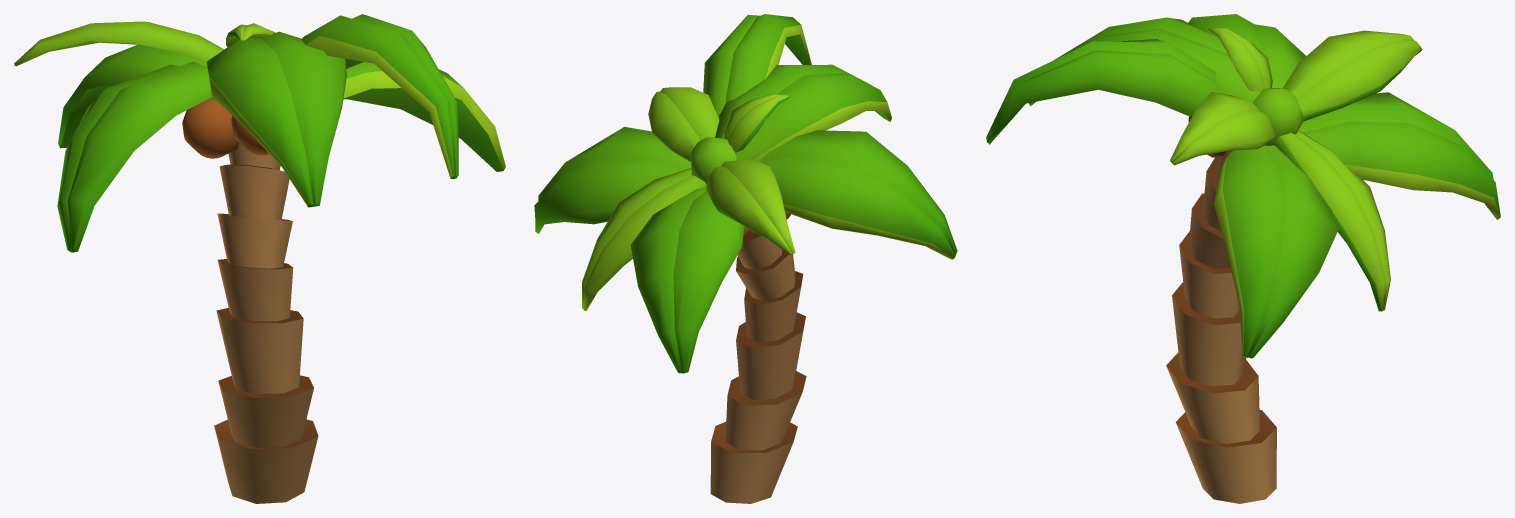
The model's file is palm.glb.
3 renders of one model, left to right at view 1: azimuth 30°, elevation 25°; view 2: azimuth 150°, elevation 25°; view 3: azimuth 270°, elevation 25°, orthographic. The views are drawn at different scales.
Visible parts, largest first — view 1: leaf, trunk, coconut1, coconut4; view 2: leaf, trunk; view 3: leaf, trunk.
Boxes of the visible parts, x1,y1,x2,y2 form: leaf: [14, 14, 505, 252]; trunk: [214, 143, 318, 503]; coconut1: [182, 99, 239, 158]; coconut4: [231, 116, 268, 155]; leaf: [534, 14, 957, 373]; trunk: [691, 137, 806, 503]; leaf: [986, 14, 1500, 358]; trunk: [1166, 87, 1304, 503].
Size of the model in its own units: 7.23 by 7.39 by 7.32.
Materials: 1 (1 with a texture image).
